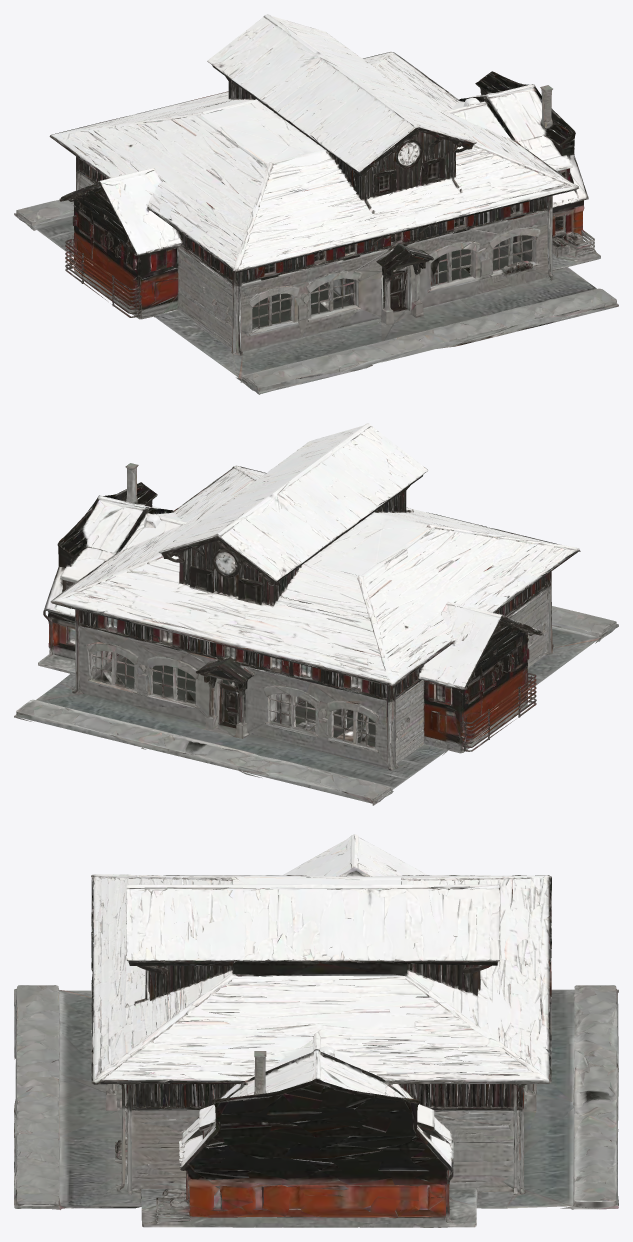
File: rail_station_valley.glb
3 renders of one model, top to bottom at view 1: azimuth 30°, elevation 25°; view 2: azimuth 150°, elevation 25°; view 3: azimuth 270°, elevation 25°, orthographic. The views are drawn at different scales.
Size of the model in its own units: 1.89 by 0.8084 by 1.9.
Materials: 1 (1 with a texture image).
